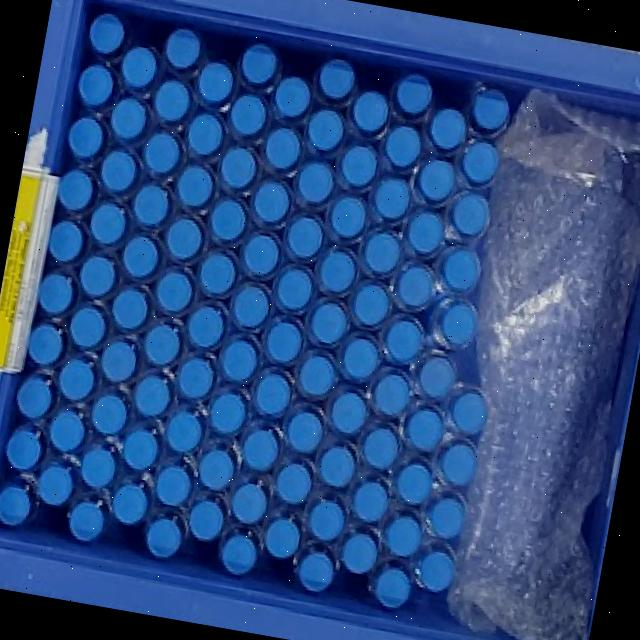vials: (441, 248, 480, 291), (405, 407, 443, 451), (16, 373, 53, 418), (461, 141, 499, 184), (451, 193, 489, 236), (385, 319, 423, 362), (407, 210, 444, 254), (396, 265, 434, 307), (69, 305, 106, 348), (5, 427, 42, 470), (373, 566, 410, 609), (472, 89, 509, 131), (417, 159, 454, 201), (384, 125, 421, 167), (340, 145, 377, 187), (363, 231, 400, 273), (89, 202, 126, 244), (79, 255, 116, 297), (111, 287, 148, 329), (298, 354, 335, 396), (373, 373, 410, 415), (340, 532, 377, 574), (297, 550, 334, 592), (110, 97, 146, 140), (440, 302, 476, 345), (276, 267, 312, 310), (58, 357, 94, 400), (49, 409, 85, 452), (286, 410, 322, 453), (396, 462, 432, 505), (451, 391, 487, 434), (143, 132, 180, 173), (310, 302, 347, 343), (68, 501, 105, 542), (145, 517, 182, 558), (88, 12, 124, 54), (121, 46, 157, 88), (318, 58, 354, 100), (307, 109, 343, 151), (187, 113, 223, 155), (330, 196, 366, 238), (133, 184, 169, 226), (287, 216, 323, 258), (319, 250, 355, 292), (188, 305, 224, 347), (233, 285, 269, 327), (418, 356, 454, 398), (362, 427, 398, 469), (134, 374, 170, 416), (37, 463, 73, 505), (80, 445, 116, 487), (122, 428, 158, 470), (166, 410, 202, 452), (198, 448, 234, 490), (352, 480, 388, 522), (440, 443, 476, 485), (428, 496, 464, 538), (418, 550, 454, 592), (28, 322, 63, 365), (197, 62, 233, 103), (241, 43, 277, 84), (274, 76, 310, 117), (352, 91, 388, 132), (396, 74, 432, 115), (429, 108, 465, 149), (230, 94, 266, 135), (154, 80, 190, 121), (374, 178, 410, 219), (253, 181, 289, 222), (166, 218, 202, 259), (210, 199, 246, 240), (353, 284, 389, 325), (199, 253, 235, 294), (144, 324, 180, 365), (342, 338, 378, 379), (177, 357, 213, 398), (100, 340, 136, 381), (91, 393, 127, 434), (112, 483, 148, 524), (210, 392, 246, 433), (231, 482, 267, 523), (220, 534, 256, 575), (264, 517, 300, 558), (308, 499, 344, 540), (385, 515, 421, 556), (78, 64, 113, 106), (68, 116, 103, 158), (101, 150, 136, 192), (265, 127, 300, 169), (331, 391, 366, 433), (255, 373, 290, 415), (222, 339, 257, 381), (243, 428, 278, 470), (276, 462, 311, 504), (319, 445, 354, 487), (155, 465, 191, 505), (165, 28, 200, 69), (221, 147, 256, 188), (177, 165, 212, 206), (58, 169, 93, 210), (48, 220, 83, 261), (123, 236, 158, 277), (243, 234, 278, 275), (38, 273, 73, 314), (298, 161, 332, 203), (267, 320, 301, 362), (189, 499, 223, 541), (156, 271, 191, 311), (0, 484, 31, 526)
